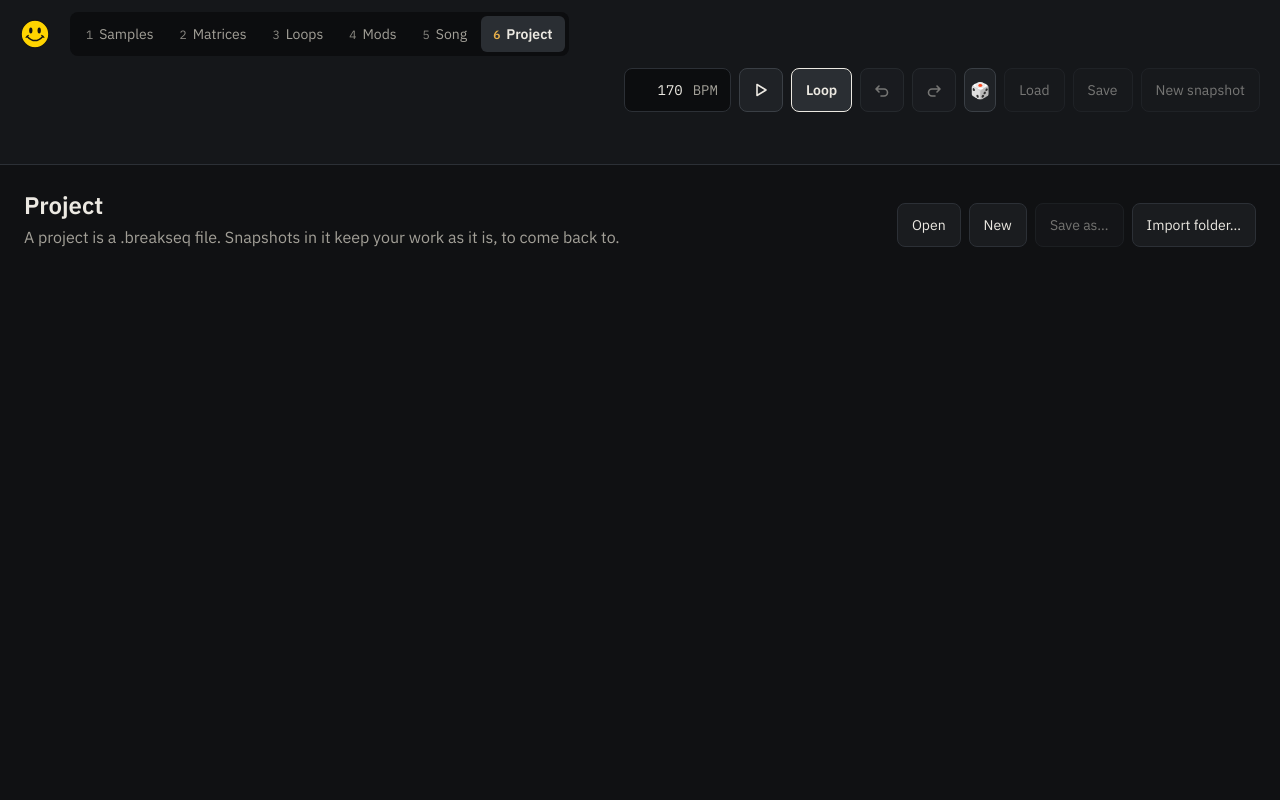
Test: projects as .breakseq files in the plugin › New names a file, which is written once when the project starts, and the song keeps it
The image size is (1280, 800).
Check: the text "A project is a .breakseq file" is shown, box [24,227,620,247]
What coordinates should you click on to do the following:
click the button "New"
I would click on:
 (998, 225)
Its box is [969,203,1027,247].
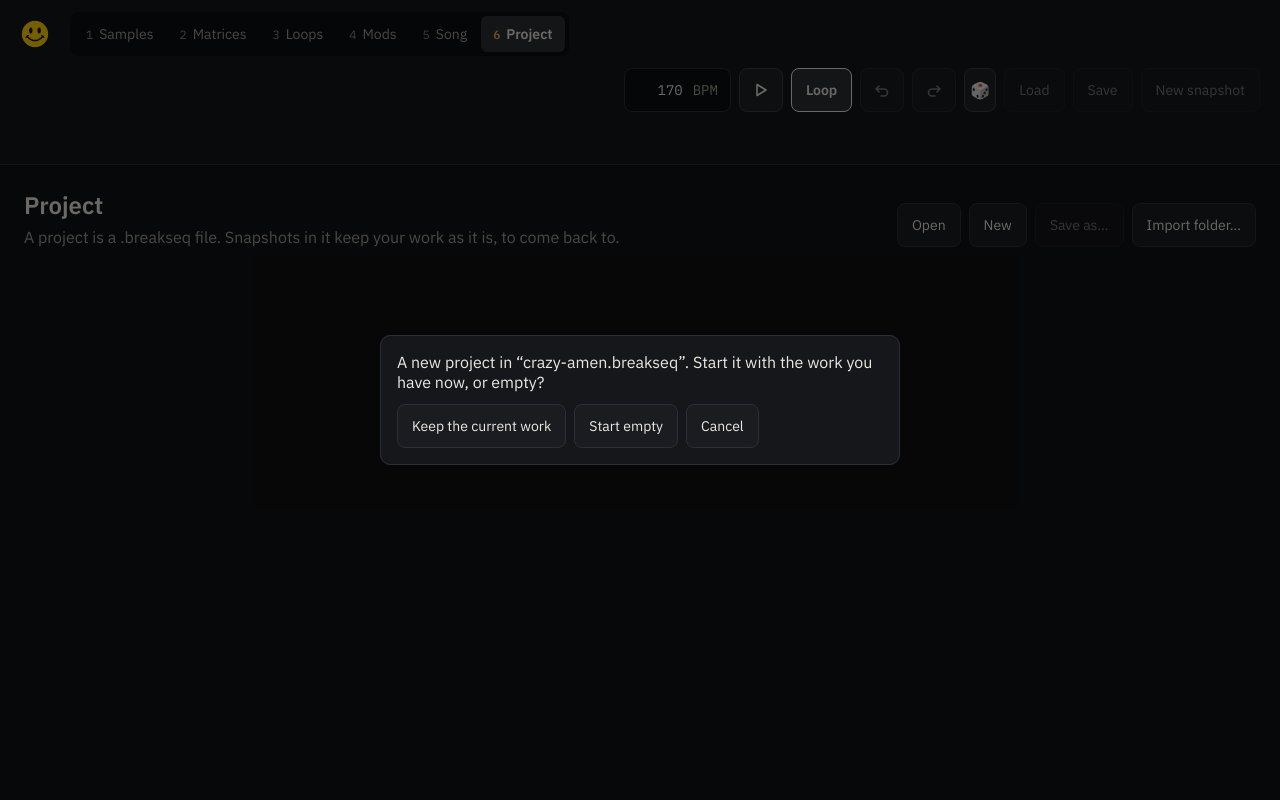
What coordinates should you click on to do the following:
click the button "Keep the current work"
I would click on:
 (482, 426)
Its box is [397,404,566,448].
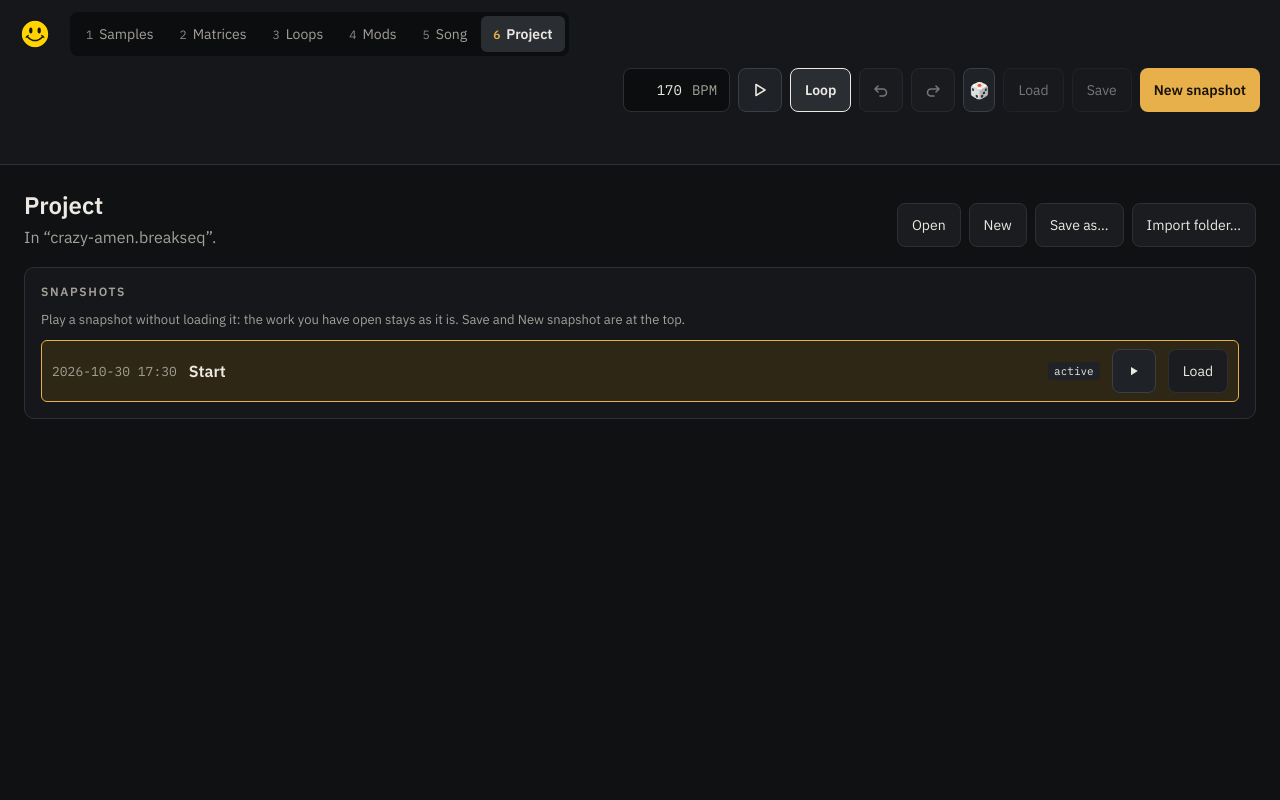
Check: the text "In “crazy-amen.breakseq”." is shown, box [24,227,216,247]
